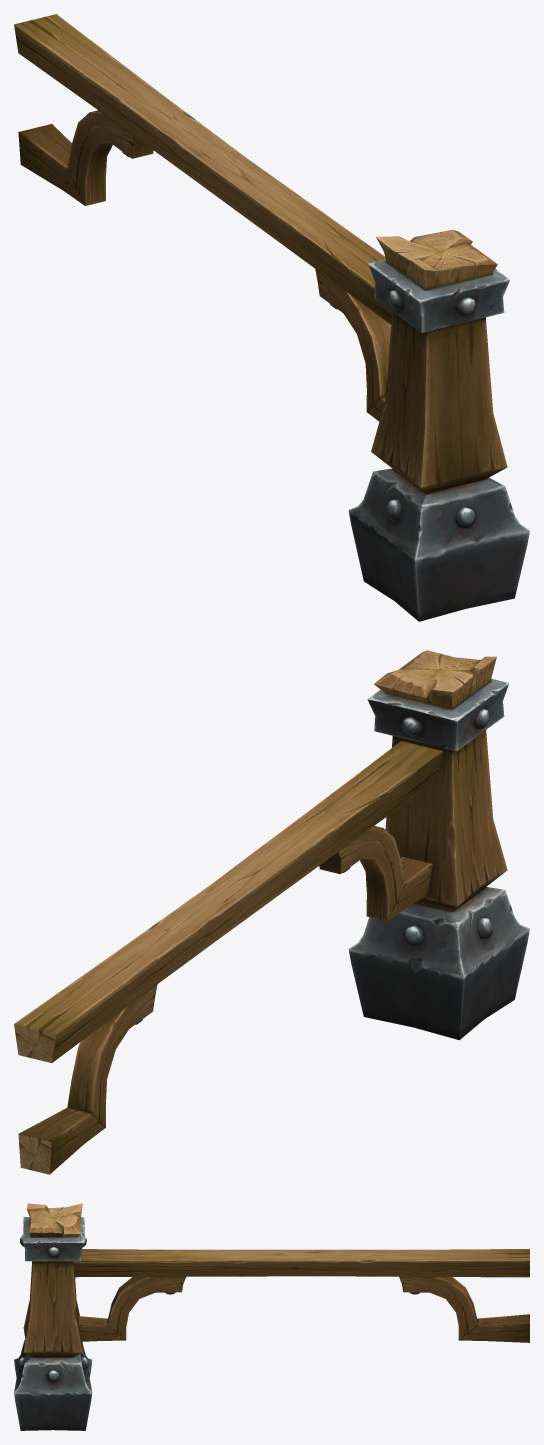
The picture shows the model from 3 angles, top to bottom: view 1: azimuth 30°, elevation 25°; view 2: azimuth 150°, elevation 25°; view 3: azimuth 270°, elevation 25°; orthographic projection. The views are drawn at different scales.
Bounding box in the file's own units: 0.8608 × 2.47 × 5.67.
1 material, 1 textured.
